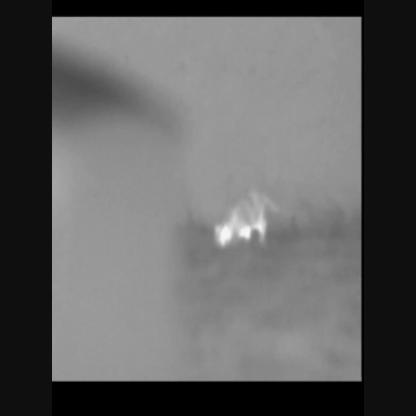rehkitze: (212, 193, 276, 249)
